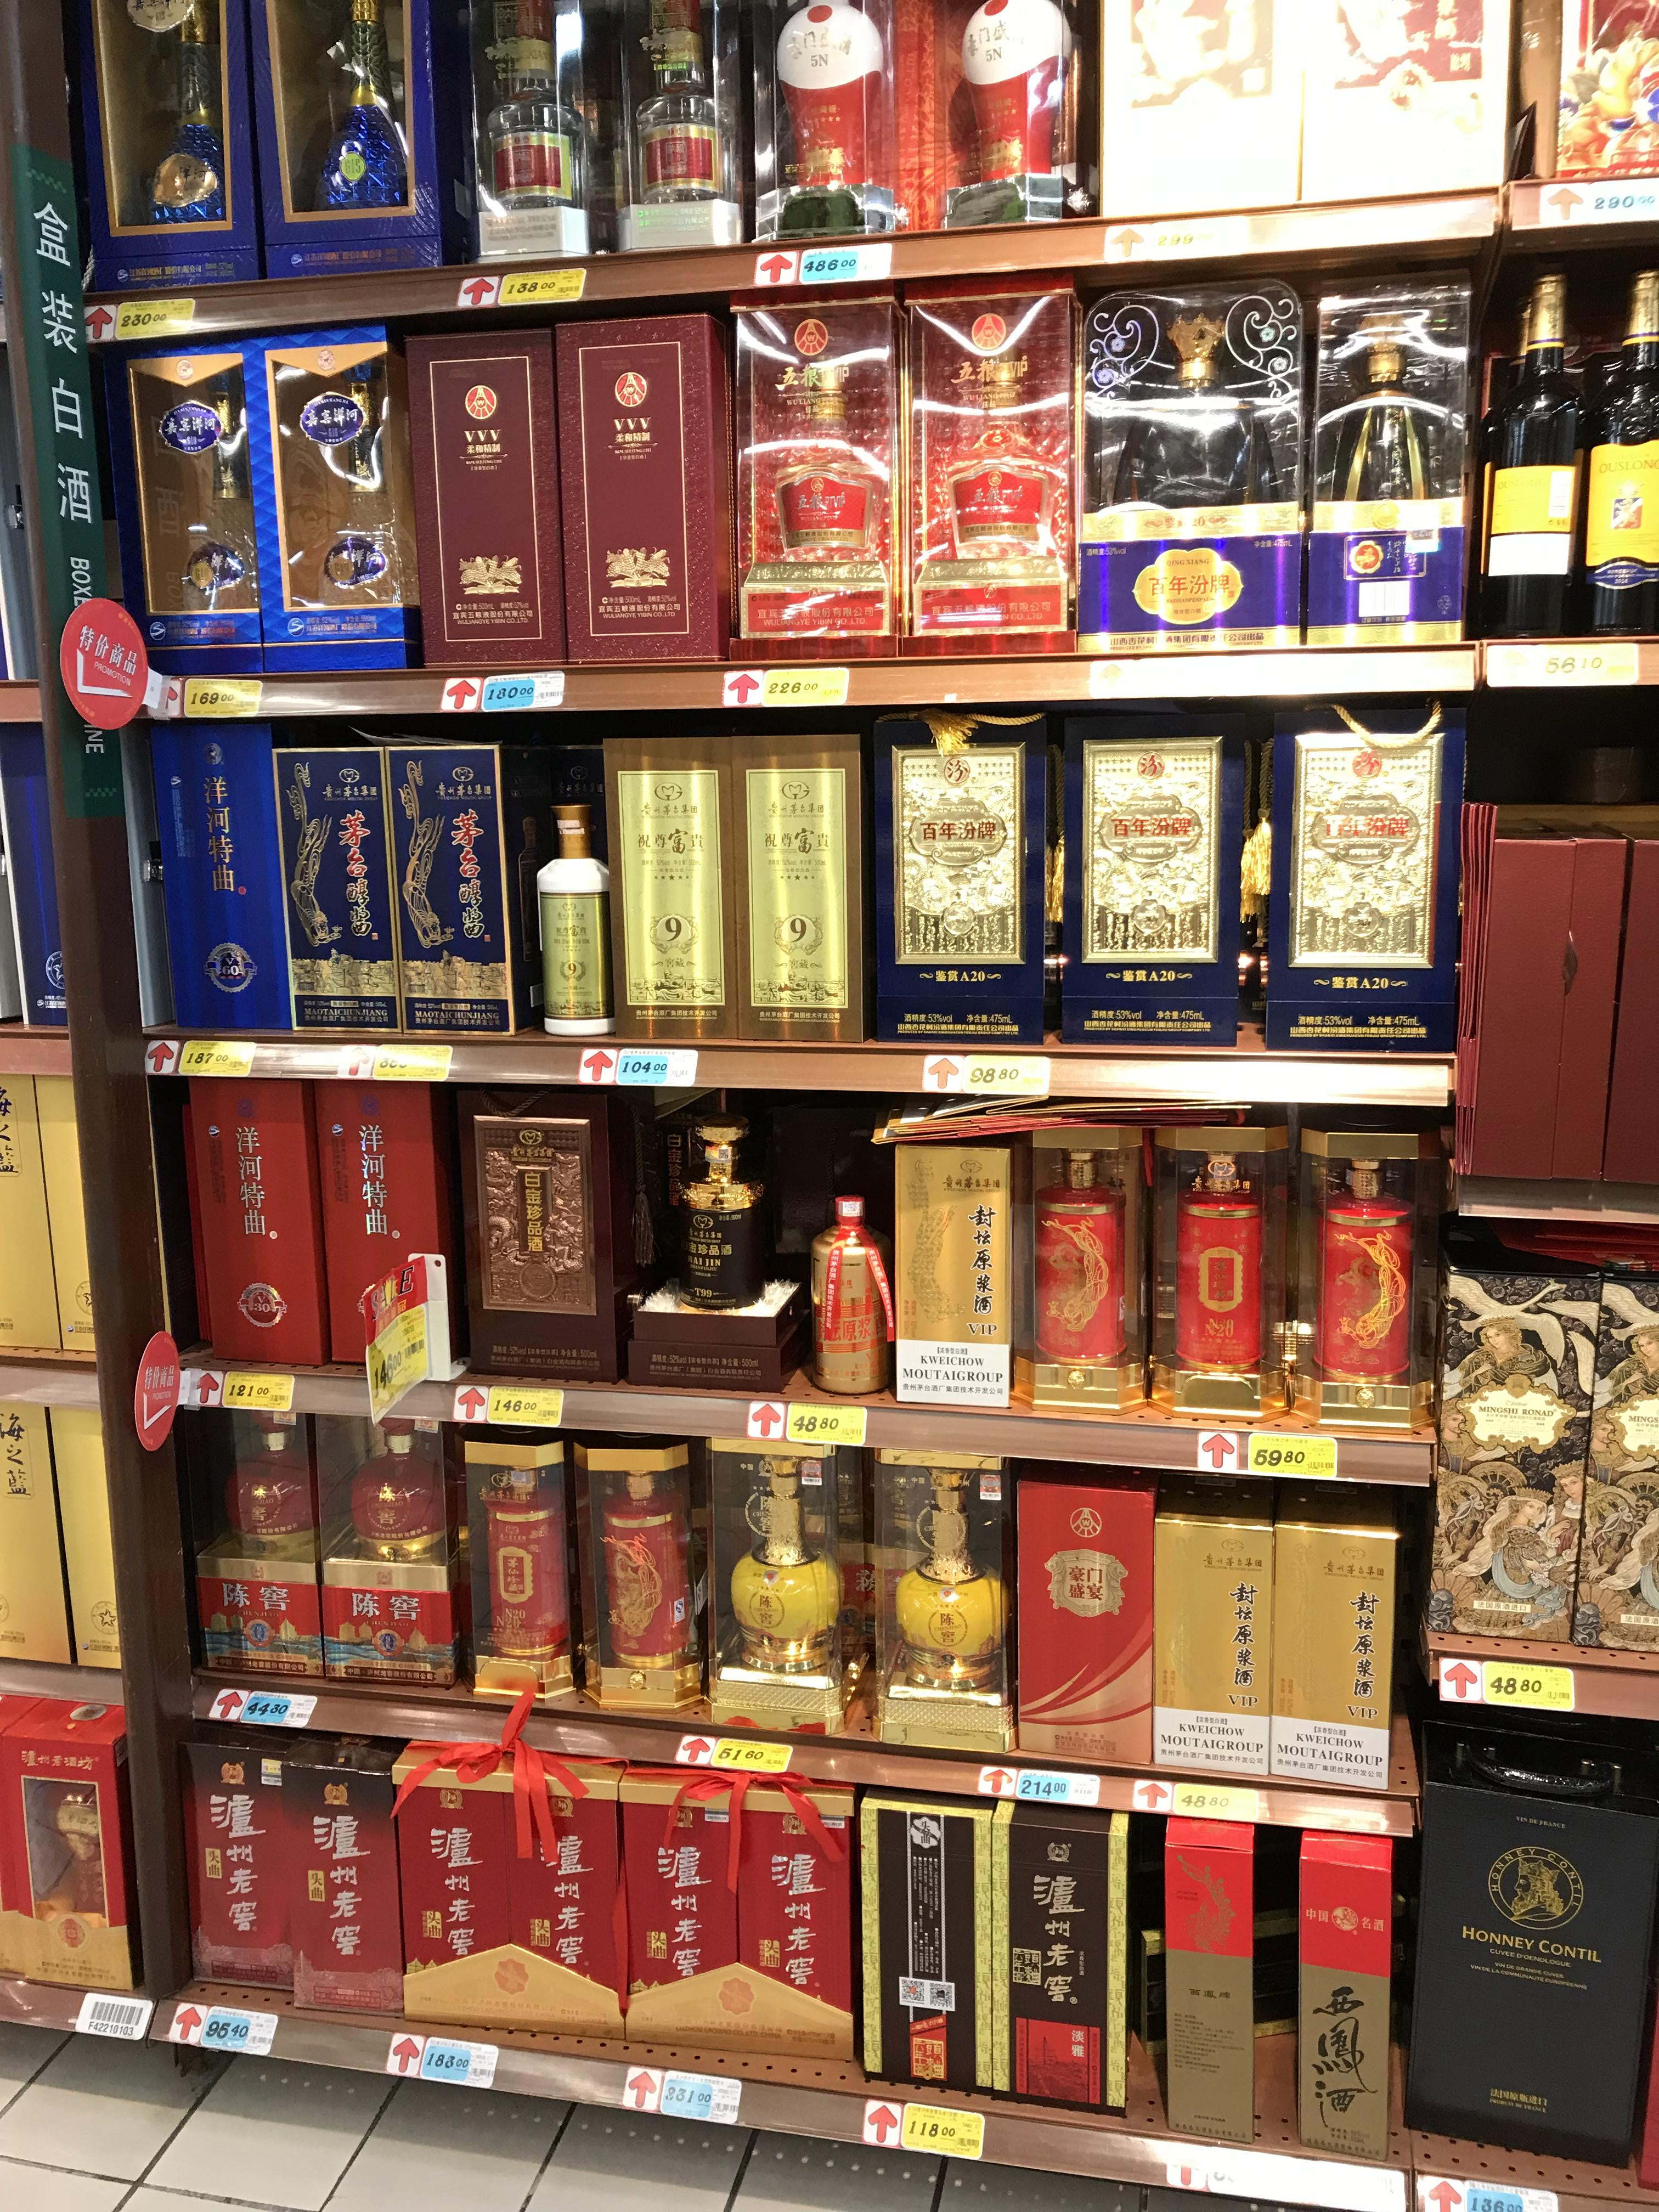bag: (873, 272, 1080, 658), (232, 327, 415, 667), (1288, 1129, 1441, 1432), (708, 1444, 863, 1730), (755, 0, 899, 247), (1532, 0, 1659, 185)
bottle: (85, 0, 260, 291), (265, 2, 437, 280), (993, 1797, 1131, 2118), (1316, 322, 1443, 651), (1474, 279, 1584, 643), (613, 0, 746, 253), (941, 0, 1084, 228), (1568, 272, 1657, 637), (471, 5, 587, 261), (526, 805, 612, 1033), (809, 1193, 889, 1399)
box: (1084, 240, 1330, 660), (1256, 712, 1474, 1052), (389, 1752, 626, 2050), (622, 1770, 852, 2066), (861, 709, 1047, 1042), (396, 317, 573, 665), (723, 293, 896, 651), (108, 340, 284, 669), (1056, 730, 1236, 1042), (1439, 1247, 1579, 1646), (1476, 817, 1621, 1186), (397, 1747, 587, 2015), (1091, 0, 1321, 219), (3, 1684, 160, 1986), (179, 1059, 331, 1364), (465, 1076, 619, 1372), (1021, 1468, 1171, 1761), (875, 1442, 1014, 1750), (157, 728, 296, 1035), (1145, 1129, 1290, 1416), (322, 1061, 455, 1374), (277, 738, 413, 1038), (605, 737, 735, 1043), (730, 737, 859, 1047), (1263, 1505, 1406, 1782), (319, 1421, 462, 1688), (1012, 1130, 1147, 1413), (1554, 1277, 1654, 1653), (401, 749, 530, 1036), (861, 1791, 986, 2078), (272, 1747, 399, 2019), (892, 1134, 1014, 1406), (195, 1409, 314, 1683), (1150, 1493, 1267, 1763), (586, 1447, 701, 1717), (5, 1364, 106, 1669), (464, 1428, 575, 1703), (47, 1390, 150, 1688), (181, 1731, 289, 2005), (37, 1073, 136, 1367), (2, 1075, 70, 1366), (1605, 820, 1657, 1195)
others: (1417, 1702, 1642, 2167), (624, 1115, 807, 1388), (199, 1728, 375, 2003), (1297, 0, 1532, 195), (1283, 1836, 1401, 2163), (1147, 1811, 1263, 2141)
